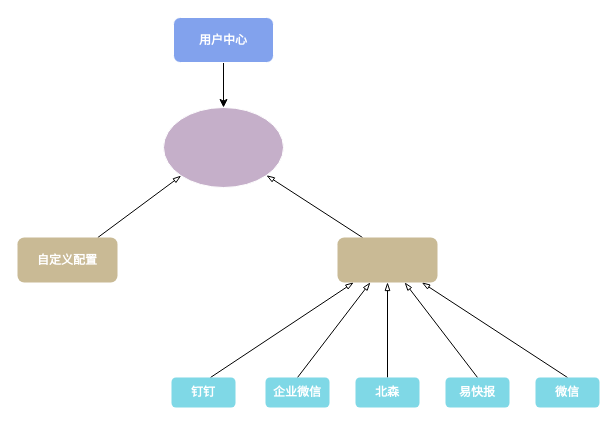
Some shapes in this 616 by 425 pixel diagram are drawn without their labels. Each missing label, with the box of its shape:
人事资源管理数据 （用户/部门）: (162, 106, 284, 188)
数据同步: (337, 237, 437, 282)
